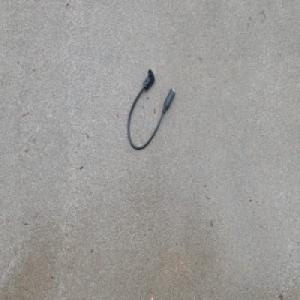Wire: (126, 67, 176, 151)
